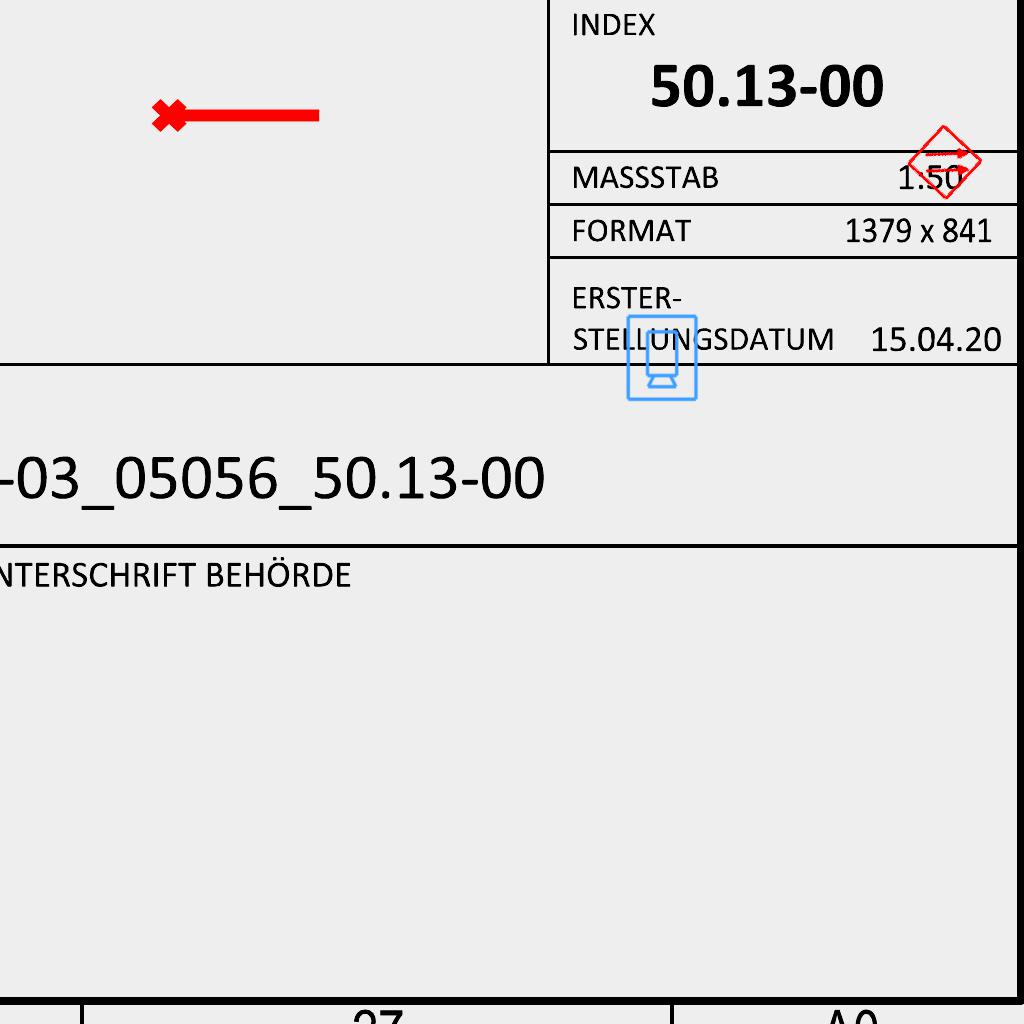ASR_Ansaugoeffnung: (149, 90, 325, 136)
KFO_Kamera_mit_Festobjektiv: (623, 312, 700, 403)
RMO_Rauchmelder_optischer: (905, 122, 985, 202)
